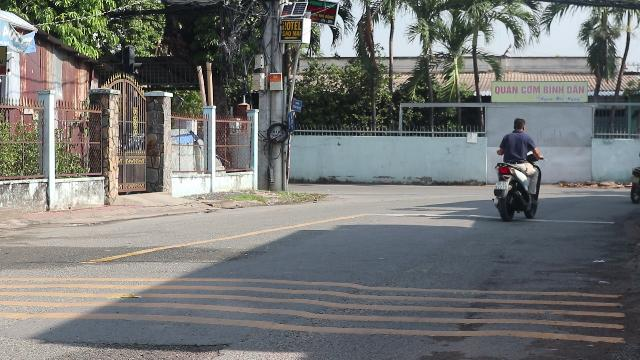licenseplate: (496, 182, 508, 188)
motorcyclist: (491, 116, 542, 220)
nohelmet: (510, 116, 526, 132)
